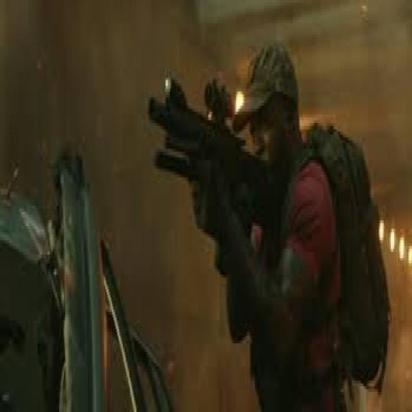Gun: (149, 73, 273, 242)
